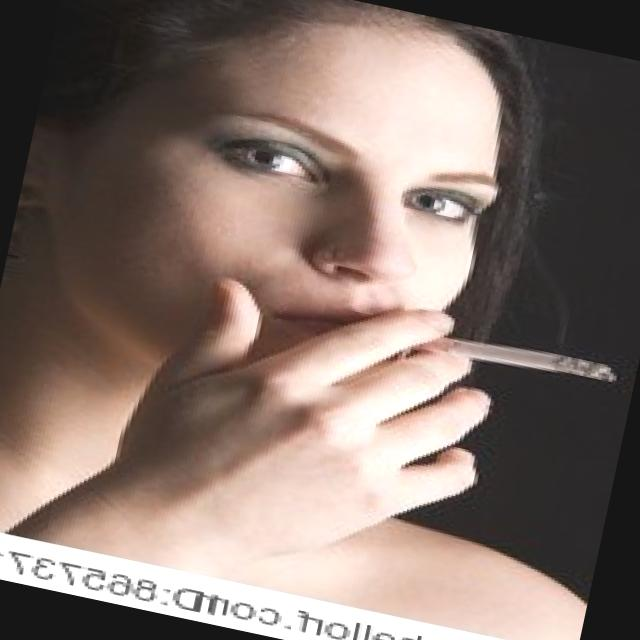smoke: (407, 314, 620, 400)
